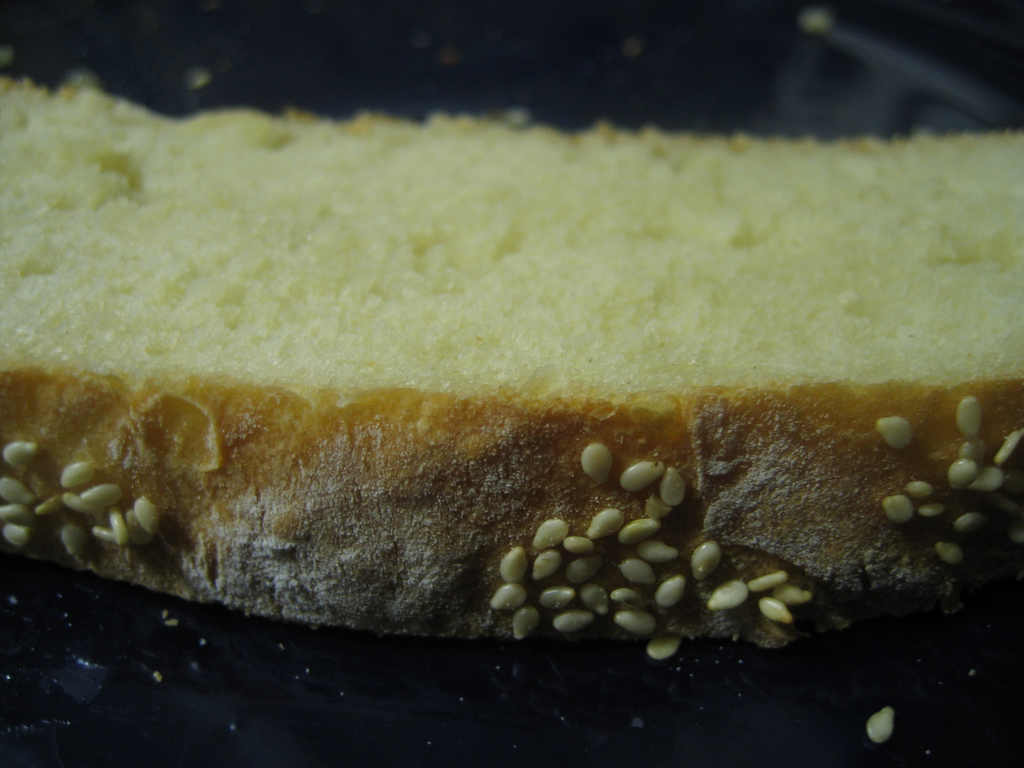slice of bread: (6, 97, 1004, 630)
